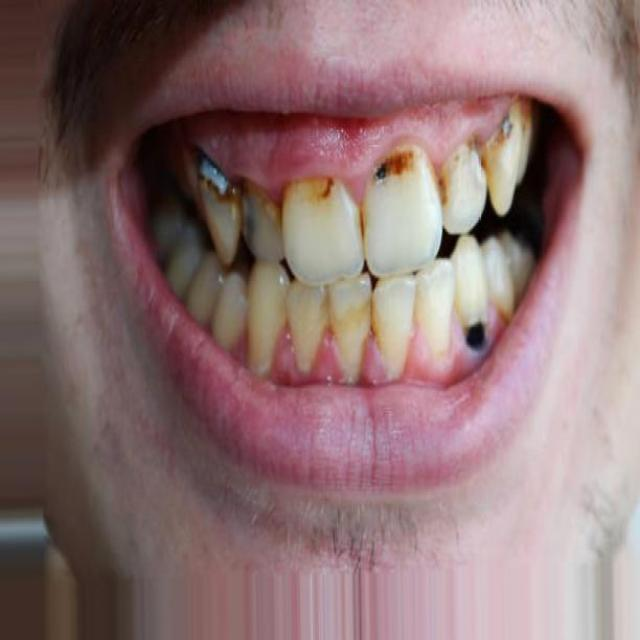caries: (191, 148, 237, 208), (299, 164, 348, 214), (370, 138, 411, 190), (462, 306, 496, 360), (467, 135, 499, 177), (430, 163, 458, 208), (498, 106, 523, 153)
